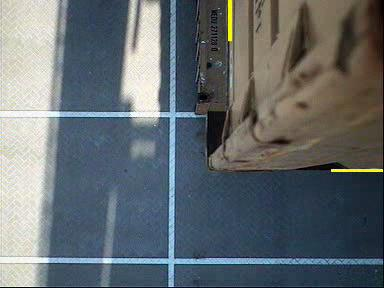groundmarker_2: (136, 217, 194, 252), (136, 249, 194, 284), (137, 71, 195, 105)
